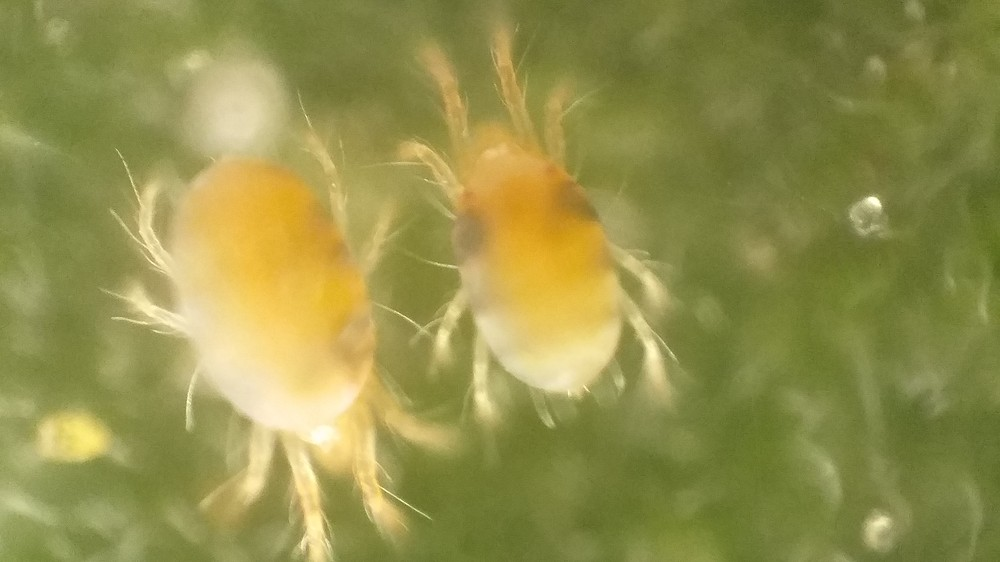Aracnido Rojo: (97, 115, 453, 548), (393, 30, 703, 456)
